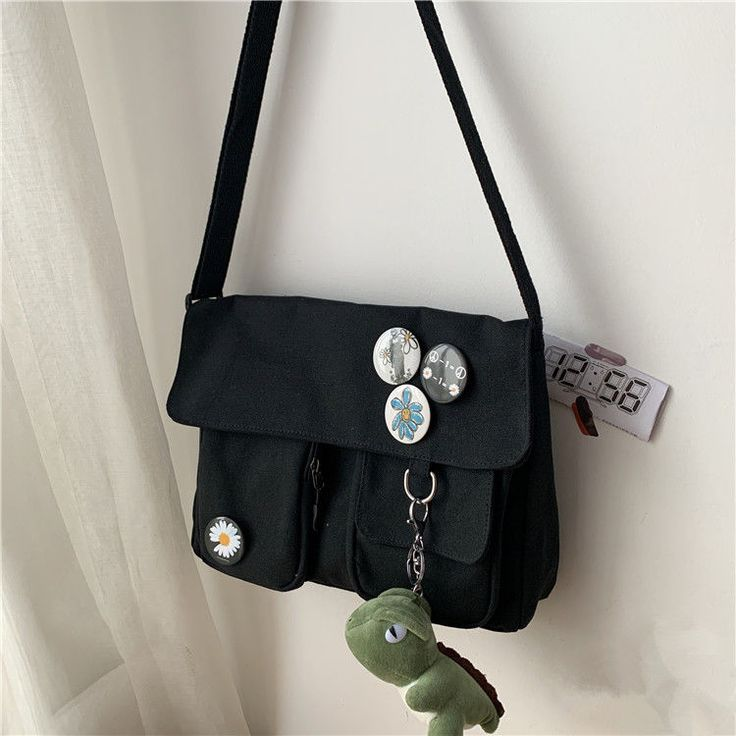nylon: (166, 1, 561, 634)
